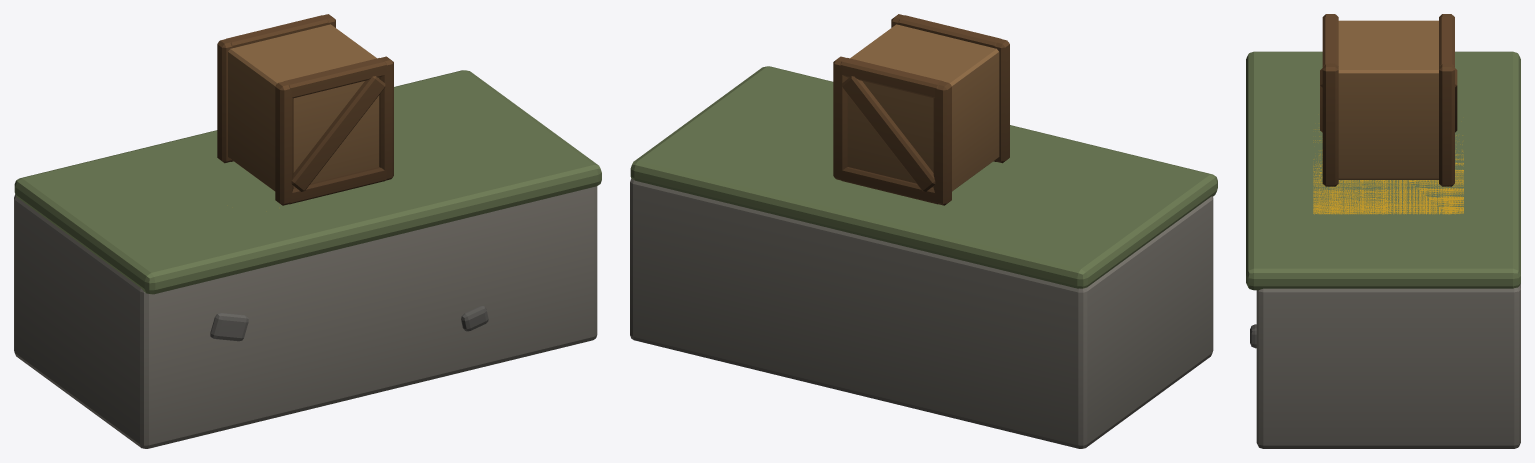
File: kit_yard.glb
The picture shows the model from 3 angles, left to right: view 1: azimuth 30°, elevation 25°; view 2: azimuth 150°, elevation 25°; view 3: azimuth 270°, elevation 25°; orthographic projection.
Parts seen in each view (by area): view 1: ground_4m, crate_1m; view 2: ground_4m, crate_1m; view 3: ground_4m, crate_1m, platform_2m.
Part boxes in pixels (left/top/right/bottom): ground_4m: left=14, top=70, right=601, bottom=448; crate_1m: left=217, top=14, right=393, bottom=205; ground_4m: left=630, top=66, right=1217, bottom=448; crate_1m: left=833, top=14, right=1009, bottom=205; ground_4m: left=1246, top=51, right=1520, bottom=448; crate_1m: left=1320, top=14, right=1457, bottom=186; platform_2m: left=1313, top=129, right=1463, bottom=214.
Bounding box in the file's own units: 4 × 2.5 × 2.08.
